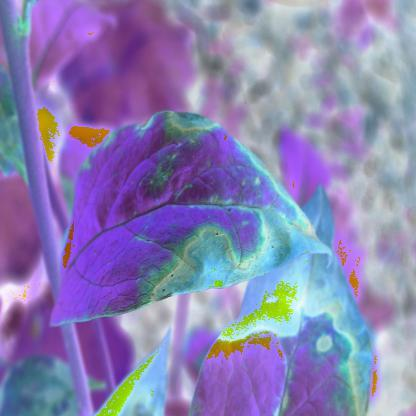Blueberry leaf: (43, 105, 356, 334), (190, 184, 398, 416)
